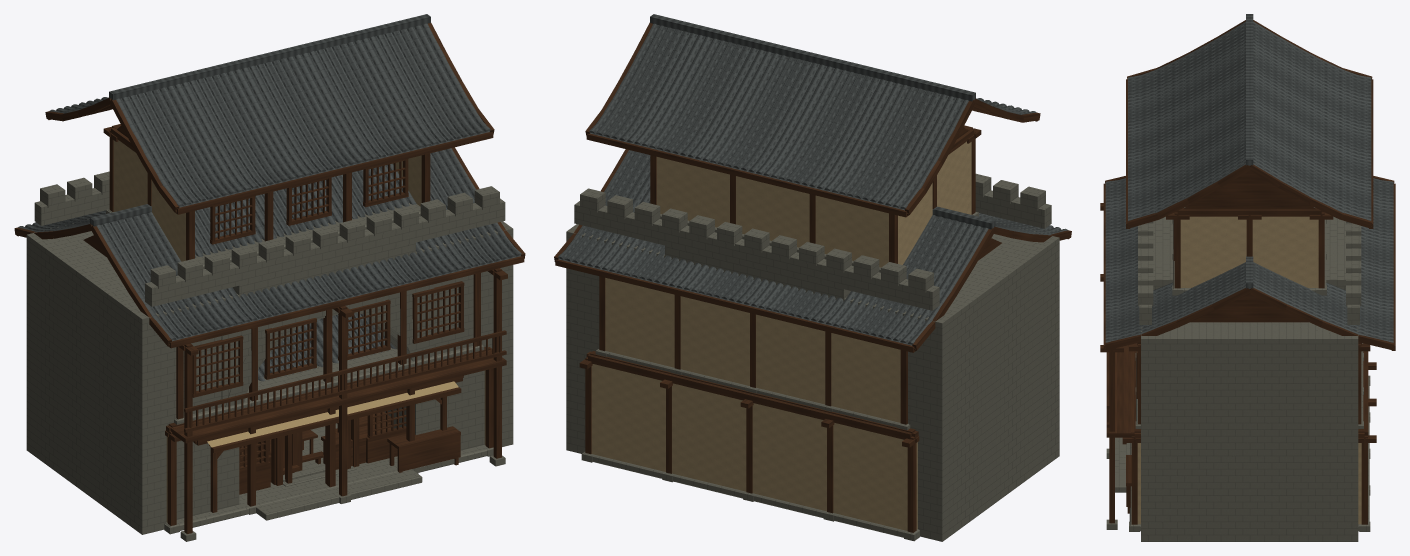
Rendered from period-architecture.glb.
3 views of the same model, side by side, from view 1: azimuth 30°, elevation 25°; view 2: azimuth 150°, elevation 25°; view 3: azimuth 270°, elevation 25° (orthographic). The views are drawn at different scales.
Visible parts, largest first — view 1: building_gate_Grey masonry, building_gate_Grey fired roof tile, building_tea_Weathered timber, building_tea_Grey fired roof tile, building_gate_Weathered timber, building_tea_Grey masonry, building_thatch_Weathered timber, building_gate_Warm lime and clay, building_workshop_Weathered timber, building_workshop_Grey fired roof tile, building_workshop_Unbleached woven cloth, building_shop_Weathered timber; view 2: building_gate_Grey masonry, building_tea_Warm lime and clay, building_gate_Grey fired roof tile, building_tea_Grey fired roof tile, building_tea_Weathered timber, building_gate_Warm lime and clay, building_gate_Weathered timber, building_tea_Grey masonry; view 3: building_gate_Grey masonry, building_gate_Grey fired roof tile, building_tea_Grey fired roof tile, building_tea_Weathered timber, building_gate_Weathered timber, building_gate_Warm lime and clay, building_tea_Grey masonry, building_tea_Warm lime and clay.
Boxes of the visible parts, x1,y1,x2,y2 form: building_gate_Grey masonry: [26, 171, 513, 534]; building_gate_Grey fired roof tile: [49, 14, 490, 207]; building_tea_Weathered timber: [14, 147, 525, 533]; building_tea_Grey fired roof tile: [18, 148, 521, 341]; building_gate_Weathered timber: [45, 23, 494, 260]; building_tea_Grey masonry: [164, 345, 505, 541]; building_thatch_Weathered timber: [193, 375, 463, 494]; building_gate_Warm lime and clay: [113, 140, 421, 261]; building_workshop_Weathered timber: [209, 387, 461, 512]; building_workshop_Grey fired roof tile: [258, 313, 395, 381]; building_workshop_Unbleached woven cloth: [207, 381, 458, 447]; building_shop_Weathered timber: [240, 422, 391, 481]; building_gate_Grey masonry: [566, 173, 1059, 541]; building_tea_Warm lime and clay: [591, 278, 917, 530]; building_gate_Grey fired roof tile: [589, 14, 1036, 210]; building_tea_Grey fired roof tile: [558, 150, 1068, 345]; building_tea_Weathered timber: [554, 149, 1071, 532]; building_gate_Warm lime and clay: [656, 141, 971, 267]; building_gate_Weathered timber: [585, 22, 1040, 263]; building_tea_Grey masonry: [581, 349, 919, 541]; building_gate_Grey masonry: [1138, 207, 1361, 541]; building_gate_Grey fired roof tile: [1128, 14, 1371, 220]; building_tea_Grey fired roof tile: [1105, 178, 1393, 342]; building_tea_Weathered timber: [1100, 176, 1395, 524]; building_gate_Weathered timber: [1126, 20, 1373, 288]; building_gate_Warm lime and clay: [1180, 216, 1318, 287]; building_tea_Grey masonry: [1106, 343, 1370, 531]; building_tea_Warm lime and clay: [1137, 443, 1361, 524].
Size of the model in its own units: 12.6 by 12.76 by 9.24.
6 materials, 6 textured.
